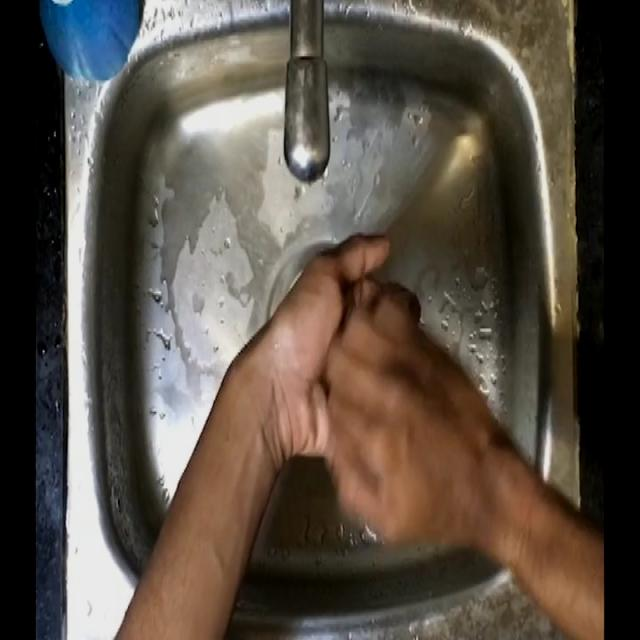step_4: (266, 216, 476, 566)
